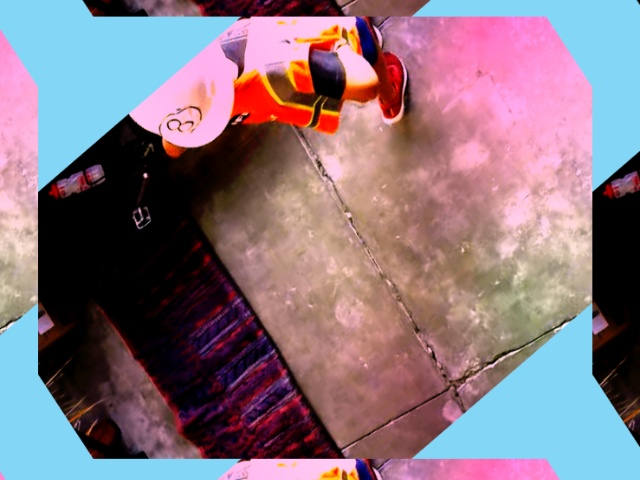eight: (152, 92, 207, 151)
